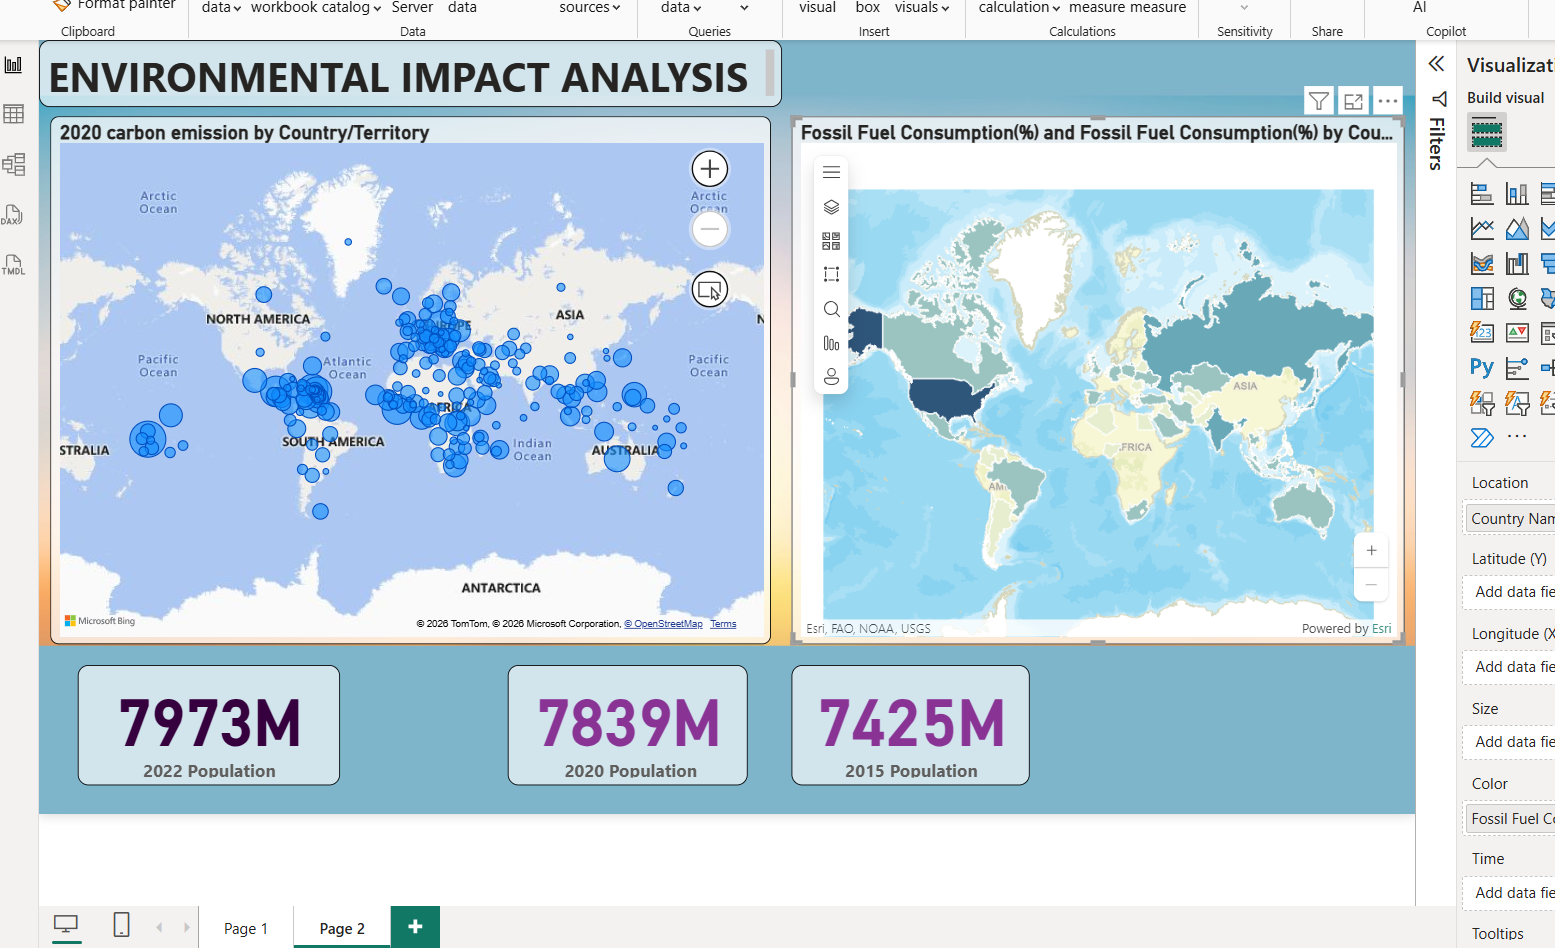

The dashboard page shown, as its layout file describes it:
{"tool":"powerbi","page":{"name":"Page 2","canvas":[1280,720],"ordinal":1},"visuals":[{"type":"map","fields":{"Category":["suraj population.Country/Territory"],"Size":["Sum(suraj population.2020 carbon emission)"]},"box":[10.9,71.2,670.6,490.9],"z":0},{"type":"esriVisual","title":"Fossil Fuel Consumption(%) and Fossil Fuel Consumption(%) by Country","fields":{"Location":["Fossil Fuel.Country Name"],"Color":["Sum(Fossil Fuel.Fossil Fuel Consumption(%))"]},"box":[699.5,71.2,570.5,490.9],"z":1000},{"type":"textbox","box":[0,0,691.1,62.7],"z":2000},{"type":"card","fields":{"Values":["Sum(suraj population.2015 Population)"]},"box":[699.5,581.3,221.9,112.2],"z":3000},{"type":"card","fields":{"Values":["Sum(suraj population.2022 Population)"]},"box":[36.2,581.3,243.6,112.2],"z":4000},{"type":"card","fields":{"Values":["Sum(suraj population.2020 Population)"]},"box":[436.6,581.3,223.1,112.2],"z":5000}]}

Visuals, with their boxes on the page's 1280x720 design canvas (x1, y1, x2, y2). These are canvas units, not pixel positions in the 1555x948 screenshot, which may show the page scaled, cropped or inside an application window:
map - suraj population.Country/Territory x Sum(suraj population.2020 carbon emission): detection(11, 71, 682, 562)
"Fossil Fuel Consumption(%) and Fossil Fuel Consumption(%) by Country" esriVisual: detection(700, 71, 1270, 562)
textbox: detection(0, 0, 691, 63)
card - Sum(suraj population.2015 Population): detection(700, 581, 921, 694)
card - Sum(suraj population.2022 Population): detection(36, 581, 280, 694)
card - Sum(suraj population.2020 Population): detection(437, 581, 660, 694)
